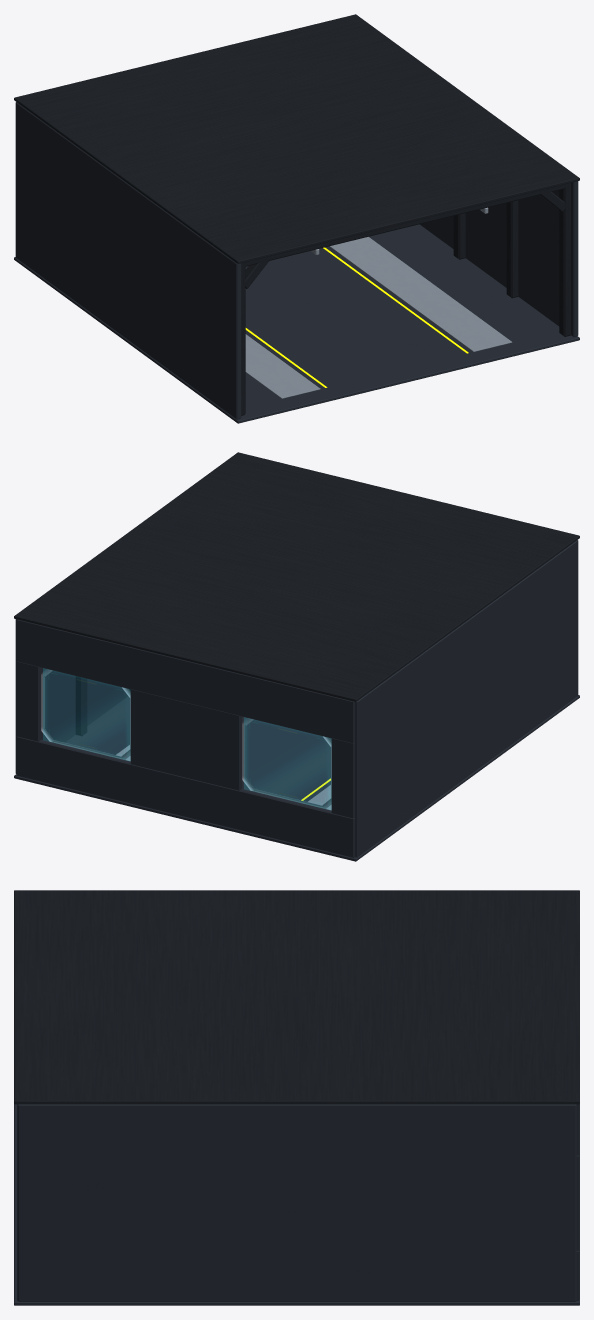
Rendered from room_05_eva_shell.glb.
The picture shows the model from 3 angles, top to bottom: view 1: azimuth 30°, elevation 25°; view 2: azimuth 150°, elevation 25°; view 3: azimuth 270°, elevation 25°; orthographic projection. The views are drawn at different scales.
Visible parts, largest first — view 1: Room05_OctagonalTitaniumRibs, Room05_CarbonSlateDeckAndBulkheads, Room05_MonorailTracksAndBootGrates, Room05_AmberFloorGuides; view 2: Room05_CarbonSlateDeckAndBulkheads, Room05_OctagonalTitaniumRibs, Room05_NorthDeepSpaceTranslucentViewports, Room05_MonorailTracksAndBootGrates; view 3: Room05_OctagonalTitaniumRibs, Room05_CarbonSlateDeckAndBulkheads.
Part boxes in pixels (x1,y1,x2,y2): Room05_OctagonalTitaniumRibs: (14,14,579,415); Room05_CarbonSlateDeckAndBulkheads: (14,102,579,423); Room05_MonorailTracksAndBootGrates: (245,207,512,398); Room05_AmberFloorGuides: (245,247,468,387); Room05_CarbonSlateDeckAndBulkheads: (14,540,579,861); Room05_OctagonalTitaniumRibs: (14,452,579,736); Room05_NorthDeepSpaceTranslucentViewports: (43,668,330,809); Room05_MonorailTracksAndBootGrates: (41,669,331,810); Room05_OctagonalTitaniumRibs: (14,890,579,1104); Room05_CarbonSlateDeckAndBulkheads: (14,1104,579,1305).
Bounding box in the file's own units: 7.5 × 3.4 × 8.5.
Materials: 6 (6 with a texture image).
